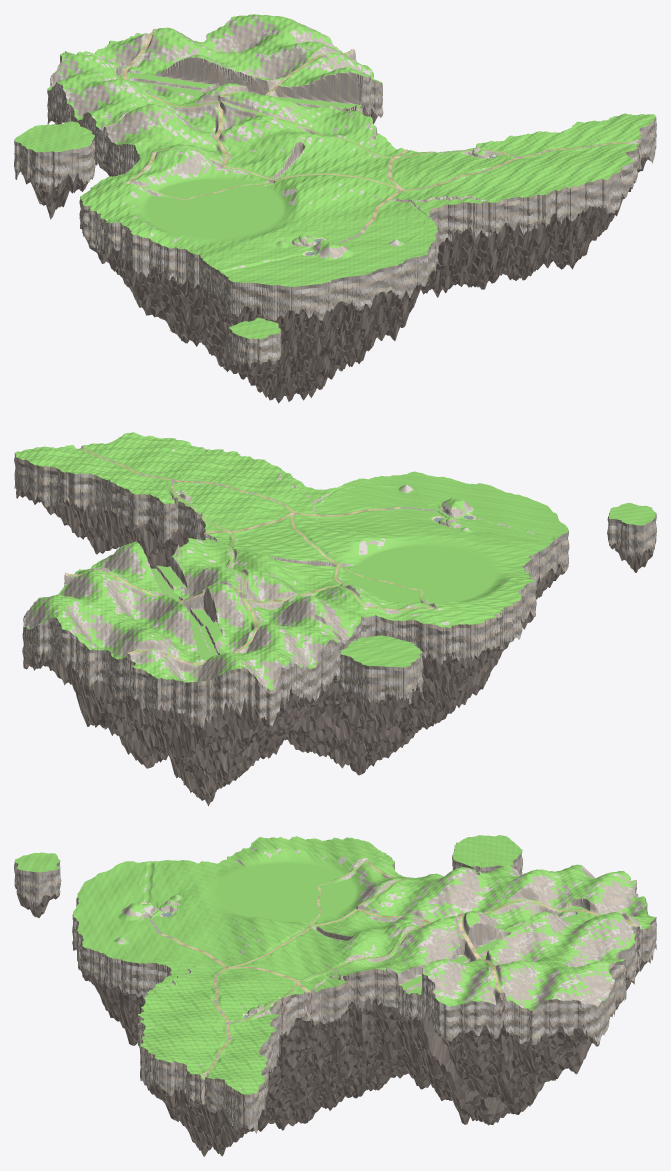
Rendered from Floor1_Verdant_Forest.fbx.
3 renders of one model, top to bottom at view 1: azimuth 30°, elevation 25°; view 2: azimuth 150°, elevation 25°; view 3: azimuth 270°, elevation 25°, orthographic.
Parts seen in each view (by area): view 1: Floor_Entrance_Underside__F1_Rock_Under_Strata_4, Floor_Entrance_Underside__F1_Rock_Under_4, Sunlit_Meadows_Underside__F1_Rock_Under_Strata_1, Sunlit_Meadows_Underside__F1_Rock_Under_1, Verdant_Village_Underside__F1_Rock_Under_Strata_4, Verdant_Village_Underside__F1_Rock_Under_4, Verdant_Village_Underside__F1_Rock_Under_6, Verdant_Village_Underside__F1_Rock_Under_Strata_6, Sunlit_Meadows_Top__F1_Grass_Verdant_1, Verdant_Village_Top__F1_Grass_Verdant_1, Whispering_Forest_Top__F1_Rock_Strata_5, Floor_Entrance_Top__F1_Grass_Verdant_1 (+101 smaller); view 2: Whispering_Forest_Underside__F1_Rock_Under_6, Whispering_Forest_Underside__F1_Rock_Under_Strata_6, Sunlit_Meadows_Underside__F1_Rock_Under_5, Verdant_Village_Underside__F1_Rock_Under_Strata_8, Verdant_Village_Underside__F1_Rock_Under_8, Sunlit_Meadows_Underside__F1_Rock_Under_Strata_5, Sunlit_Meadows_Top__F1_Grass_Verdant_12, Whispering_Forest_Top__F1_Rock_2, Verdant_Village_Top__F1_Grass_Verdant_1, Verdant_Village_Top__F1_Grass_Verdant_2, Whispering_Forest_Top__F1_Rock_9, Sunlit_Meadows_Top__F1_Grass_Verdant_9 (+103 smaller); view 3: Whispering_Forest_Underside__F1_Rock_Under_22, Whispering_Forest_Underside__F1_Rock_Under_Strata_23, Whispering_Forest_Top__F1_Rock_12, Sunlit_Meadows_Top__F1_Grass_Verdant_2, Whispering_Forest_Top__F1_Rock_2, Sunlit_Meadows_Top__F1_Grass_Verdant_1, Whispering_Forest_Top__F1_Rock_19, Floor_Entrance_Top__F1_Grass_Verdant_1, Whispering_Forest_Top__F1_Grass_Verdant_50, Whispering_Forest_Top__F1_Grass_Verdant_5, Sunlit_Meadows_Top__F1_Grass_Verdant_9, Sunlit_Meadows_Top__F1_Grass_Verdant_10 (+109 smaller).
Part boxes in pixels (left/top/right/bottom): Floor_Entrance_Underside__F1_Rock_Under_Strata_4: left=225, top=294, right=378, bottom=375; Floor_Entrance_Underside__F1_Rock_Under_4: left=226, top=292, right=380, bottom=375; Sunlit_Meadows_Underside__F1_Rock_Under_Strata_1: left=110, top=247, right=210, bottom=333; Sunlit_Meadows_Underside__F1_Rock_Under_1: left=109, top=247, right=209, bottom=333; Verdant_Village_Underside__F1_Rock_Under_Strata_4: left=440, top=213, right=562, bottom=271; Verdant_Village_Underside__F1_Rock_Under_4: left=442, top=213, right=560, bottom=272; Verdant_Village_Underside__F1_Rock_Under_6: left=405, top=205, right=537, bottom=296; Verdant_Village_Underside__F1_Rock_Under_Strata_6: left=404, top=206, right=538, bottom=296; Sunlit_Meadows_Top__F1_Grass_Verdant_1: left=82, top=184, right=168, bottom=220; Verdant_Village_Top__F1_Grass_Verdant_1: left=402, top=161, right=489, bottom=199; Whispering_Forest_Top__F1_Rock_Strata_5: left=159, top=57, right=300, bottom=132; Floor_Entrance_Top__F1_Grass_Verdant_1: left=210, top=249, right=308, bottom=282; Whispering_Forest_Underside__F1_Rock_Under_6: left=178, top=689, right=298, bottom=781; Whispering_Forest_Underside__F1_Rock_Under_Strata_6: left=181, top=688, right=299, bottom=783; Sunlit_Meadows_Underside__F1_Rock_Under_5: left=321, top=710, right=446, bottom=775; Verdant_Village_Underside__F1_Rock_Under_Strata_8: left=51, top=484, right=169, bottom=568; Verdant_Village_Underside__F1_Rock_Under_8: left=52, top=478, right=170, bottom=568; Sunlit_Meadows_Underside__F1_Rock_Under_Strata_5: left=321, top=708, right=447, bottom=770; Sunlit_Meadows_Top__F1_Grass_Verdant_12: left=324, top=532, right=412, bottom=575; Whispering_Forest_Top__F1_Rock_2: left=244, top=597, right=349, bottom=666; Verdant_Village_Top__F1_Grass_Verdant_1: left=217, top=479, right=307, bottom=517; Verdant_Village_Top__F1_Grass_Verdant_2: left=202, top=469, right=316, bottom=528; Whispering_Forest_Top__F1_Rock_9: left=155, top=576, right=284, bottom=649; Sunlit_Meadows_Top__F1_Grass_Verdant_9: left=387, top=556, right=477, bottom=591; Whispering_Forest_Underside__F1_Rock_Under_22: left=425, top=1014, right=556, bottom=1099; Whispering_Forest_Underside__F1_Rock_Under_Strata_23: left=428, top=1018, right=556, bottom=1097; Whispering_Forest_Top__F1_Rock_12: left=430, top=911, right=553, bottom=964; Sunlit_Meadows_Top__F1_Grass_Verdant_2: left=252, top=836, right=305, bottom=874; Whispering_Forest_Top__F1_Rock_2: left=430, top=867, right=553, bottom=912; Sunlit_Meadows_Top__F1_Grass_Verdant_1: left=305, top=837, right=358, bottom=874; Whispering_Forest_Top__F1_Rock_19: left=429, top=961, right=542, bottom=1005; Floor_Entrance_Top__F1_Grass_Verdant_1: left=120, top=860, right=167, bottom=899; Whispering_Forest_Top__F1_Grass_Verdant_50: left=422, top=958, right=516, bottom=1006; Whispering_Forest_Top__F1_Grass_Verdant_5: left=554, top=864, right=635, bottom=907; Sunlit_Meadows_Top__F1_Grass_Verdant_9: left=252, top=874, right=305, bottom=905; Sunlit_Meadows_Top__F1_Grass_Verdant_10: left=305, top=869, right=395, bottom=905.
Size of the model in its own units: 841824 by 368087 by 886707.
